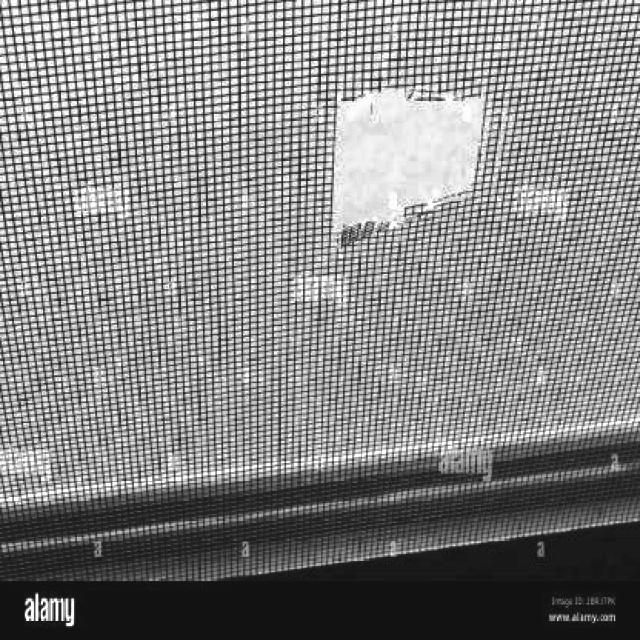anomaly-fence: (296, 55, 604, 342), (71, 160, 120, 254)
